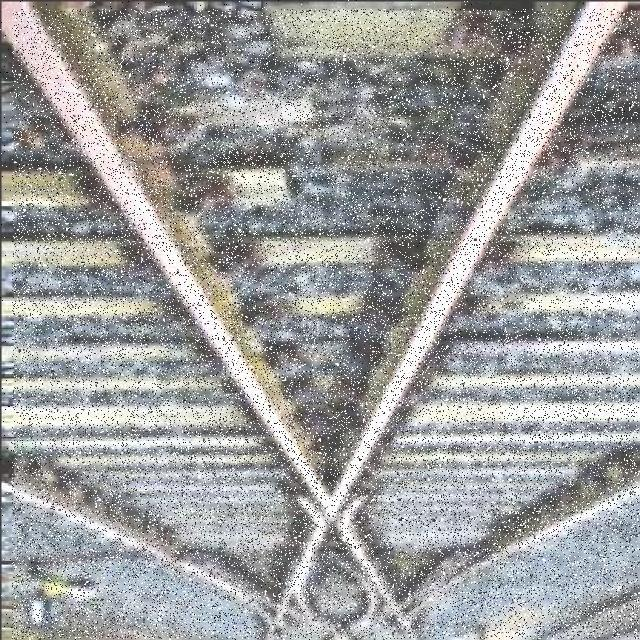rail: (13, 9, 640, 640)
